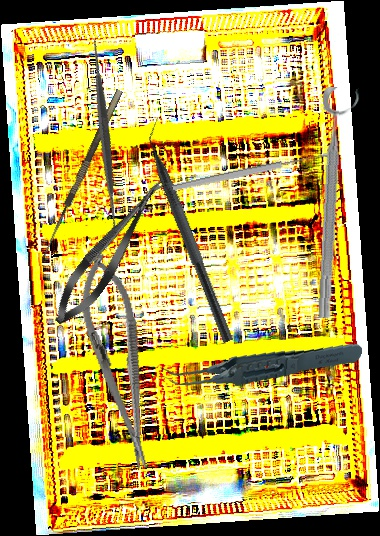Chopper: (134, 115, 249, 344)
Fixation Ring: (311, 86, 362, 320)
Hook Surgical: (38, 89, 133, 263)
Micro Scissor: (44, 170, 176, 333)
Needle Holder: (70, 249, 167, 475)
Spatula Surgical: (2, 33, 207, 238)
Surgical Spoon: (171, 150, 329, 193)
Tissue Forceps: (158, 322, 363, 404)
